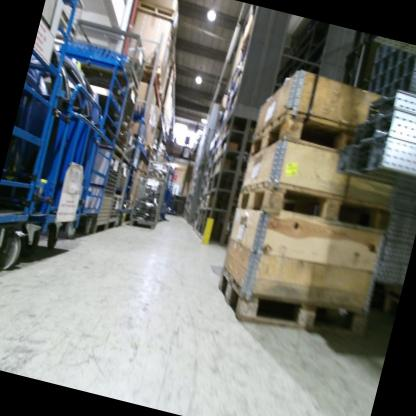pallet: (211, 261, 372, 347), (242, 98, 386, 189), (235, 169, 395, 247), (132, 0, 180, 33), (131, 59, 164, 96), (152, 84, 171, 113)
stillage: (38, 53, 146, 158), (64, 16, 152, 89), (82, 148, 127, 238), (127, 173, 170, 232), (110, 159, 134, 202), (144, 159, 177, 189), (104, 192, 127, 233)
